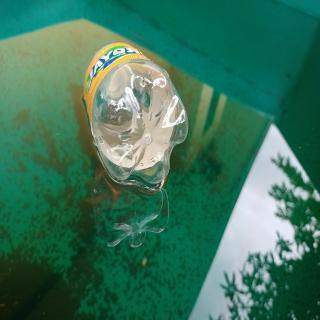bottle: (84, 41, 188, 188)
